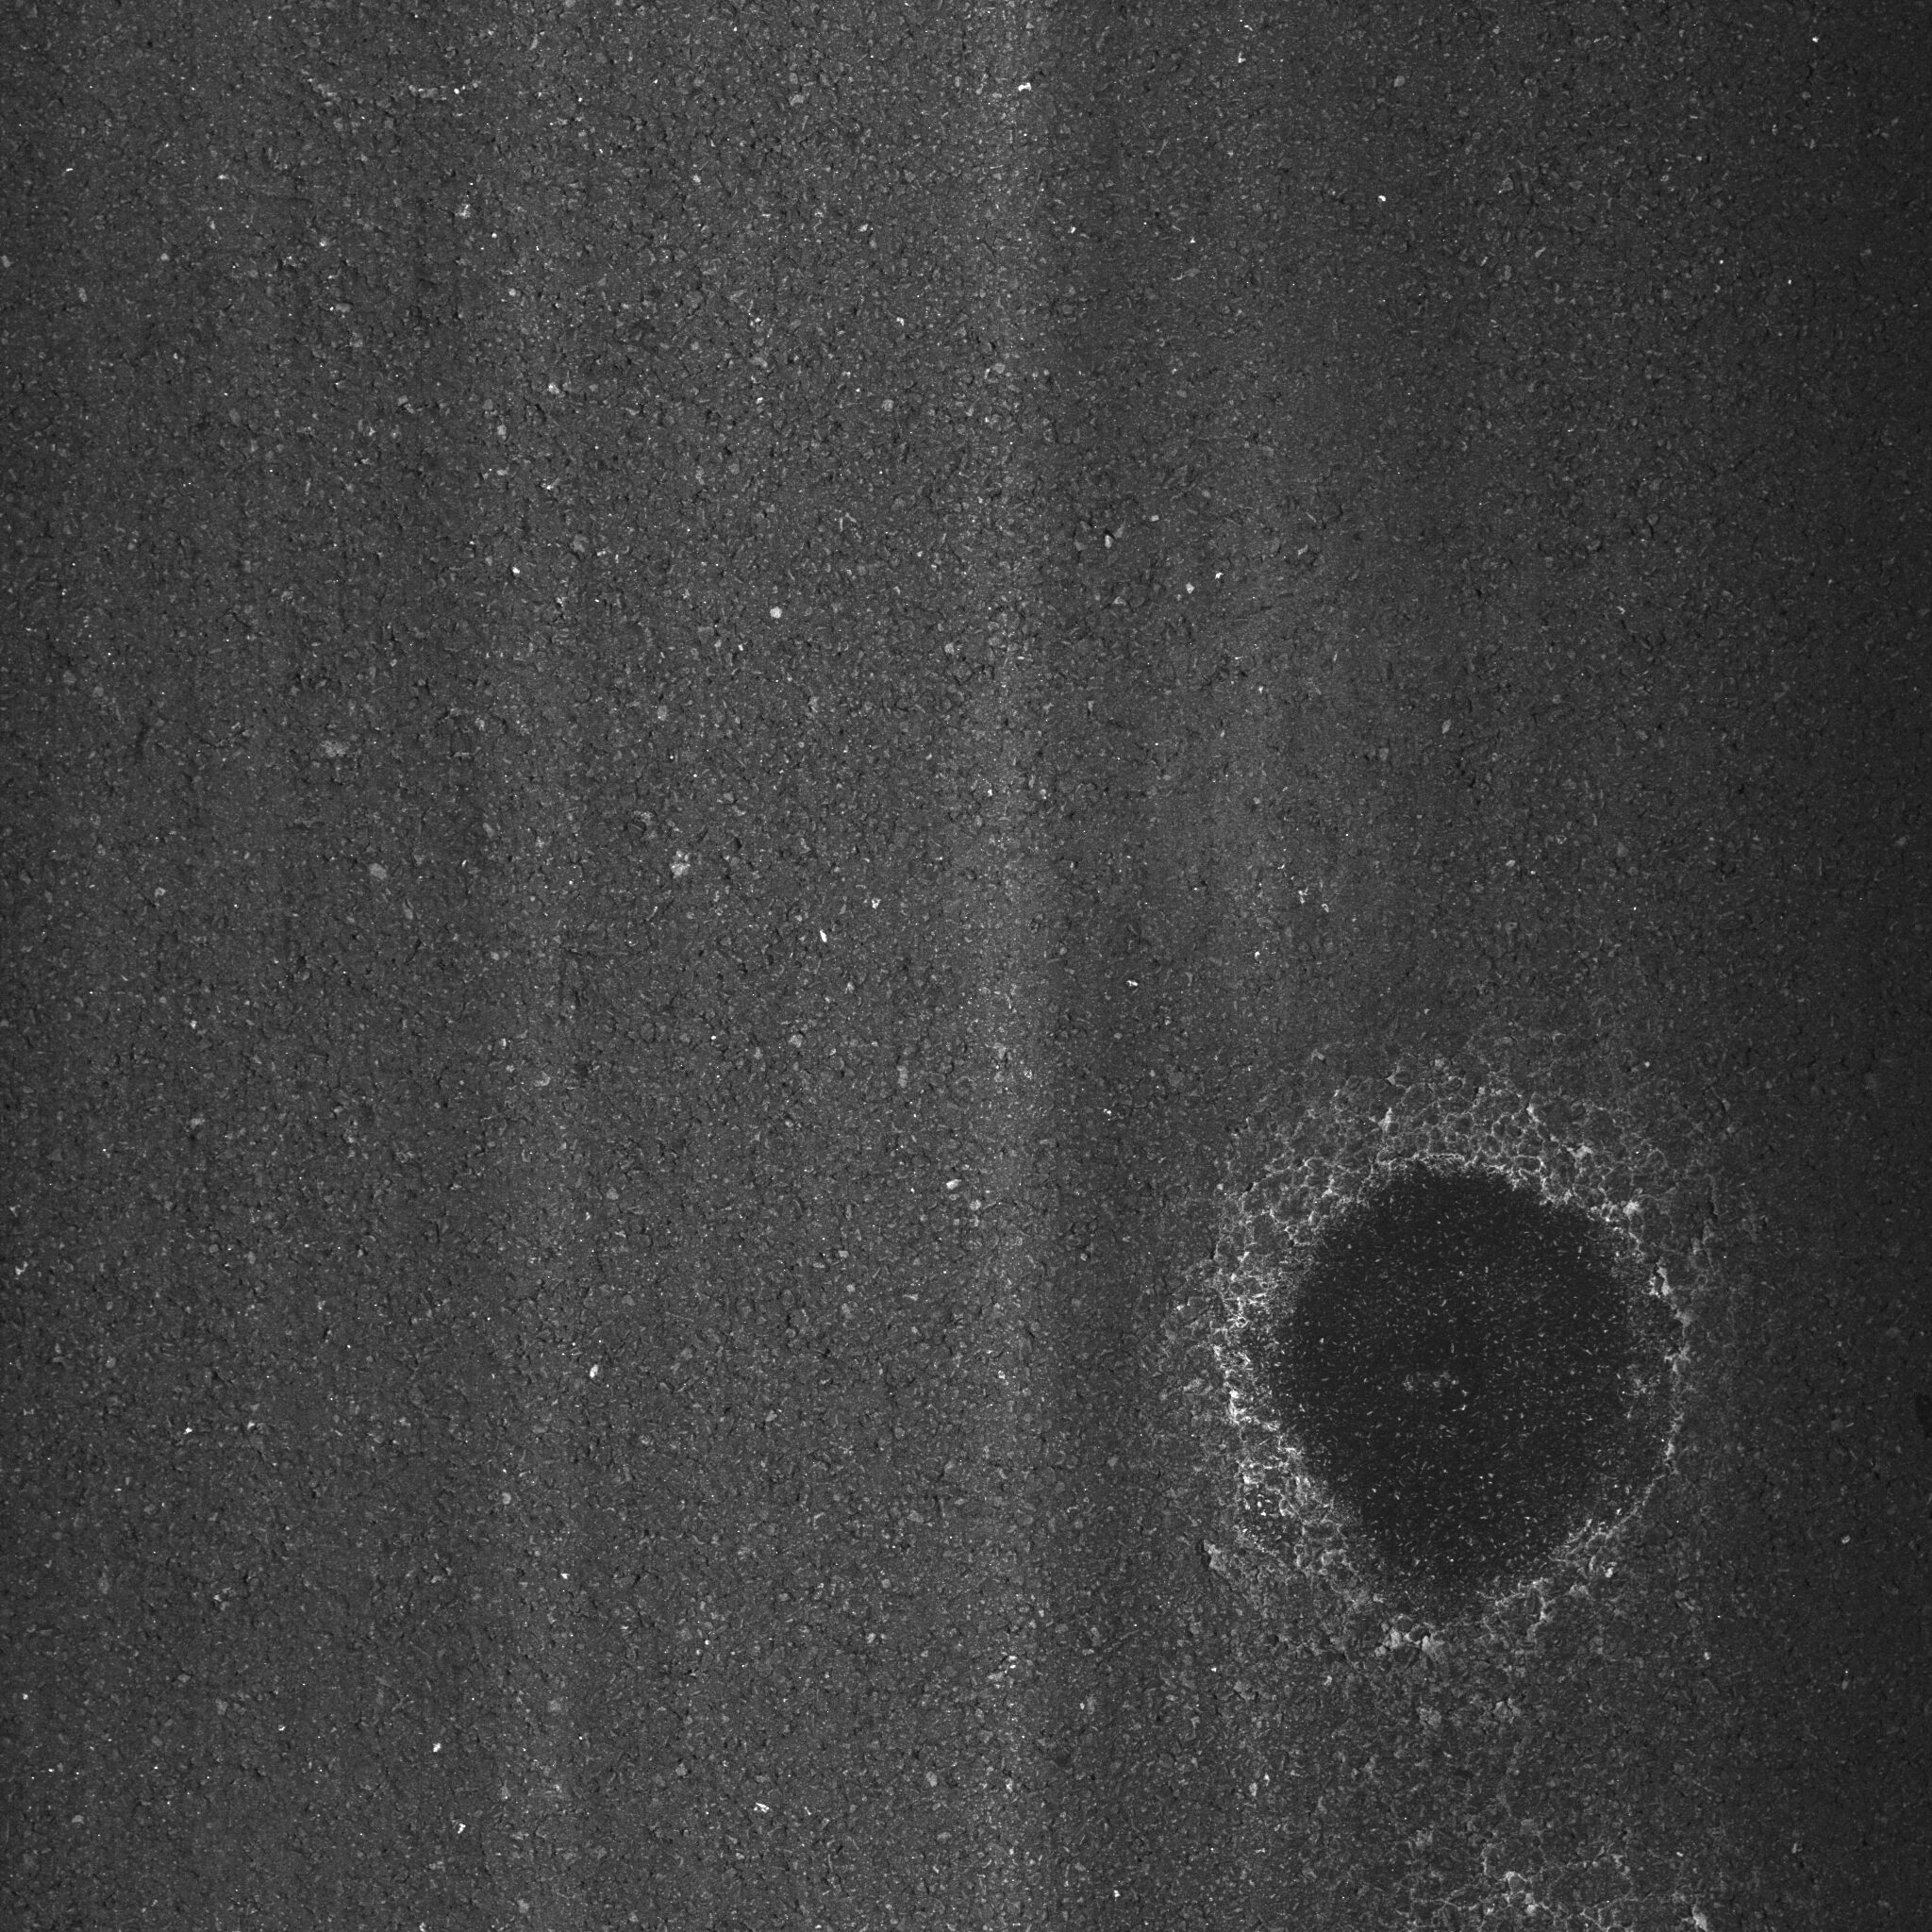alligator: (987, 920, 1787, 1780)
